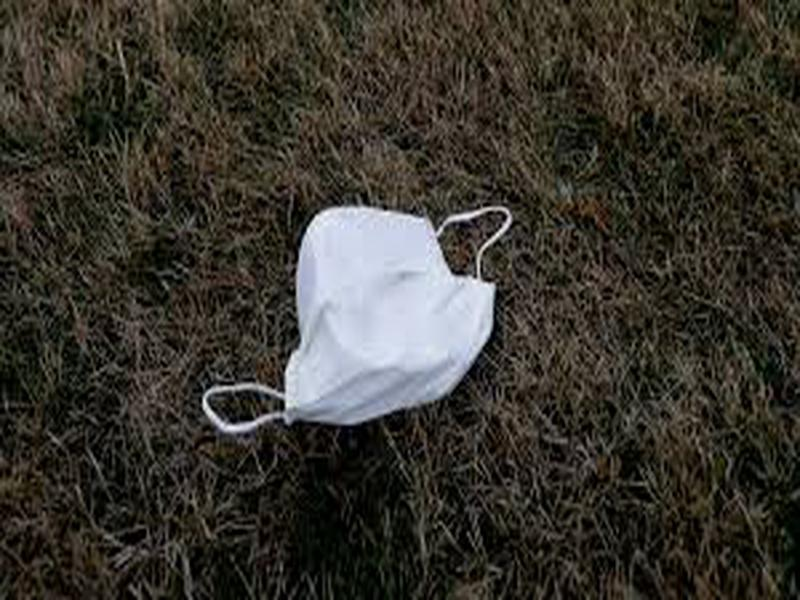mask: (198, 201, 514, 439)
